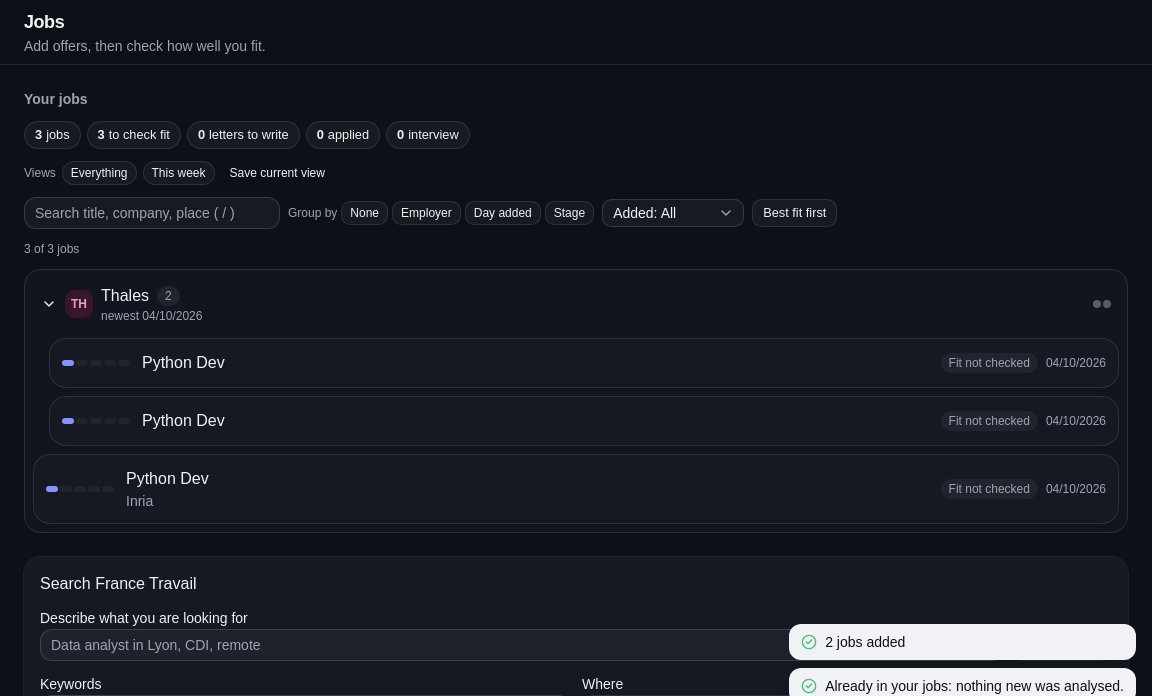
Scenario: jobs of one employer share a header with a count; the Today filter empties the list
Expected: the text "3 of 3 jobs" is shown, [24,242,79,256]
Select "Added: Today" in the dropdown named "Added" at (673, 213), box [602,199,744,227]
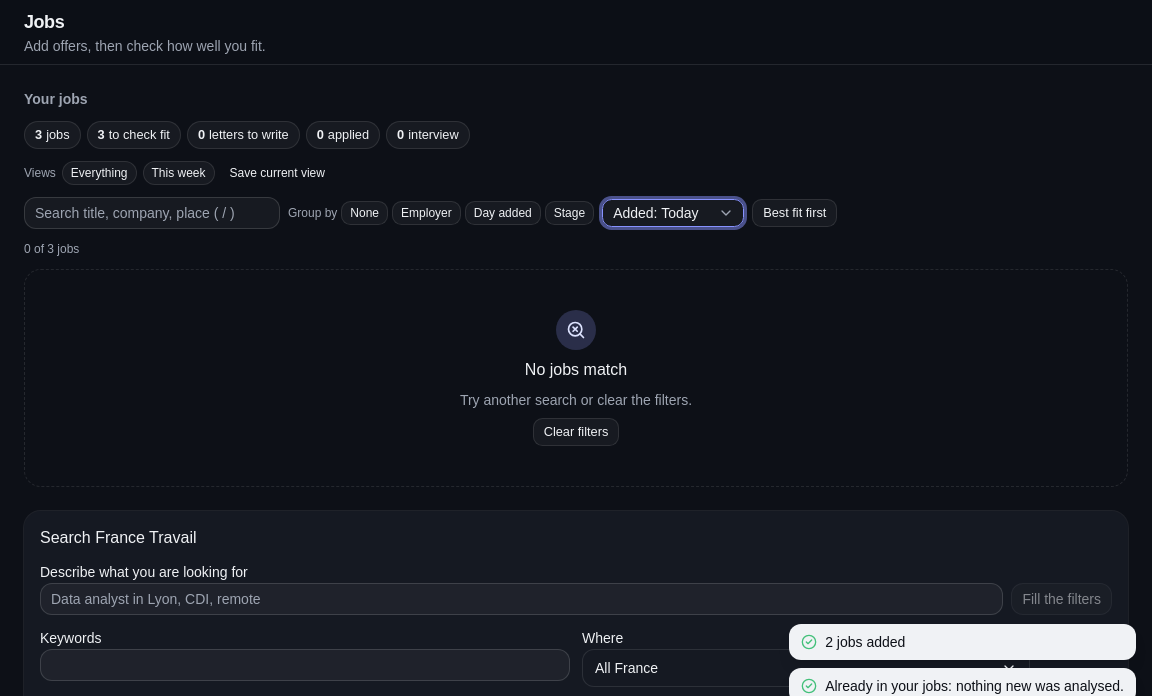
Now the text "No jobs match" is shown, box [525,358,627,382]
Now the text "0 of 3 jobs" is shown, box [24,242,79,256]
Click the button "Clear filters" at (576, 432), box [533,418,619,446]
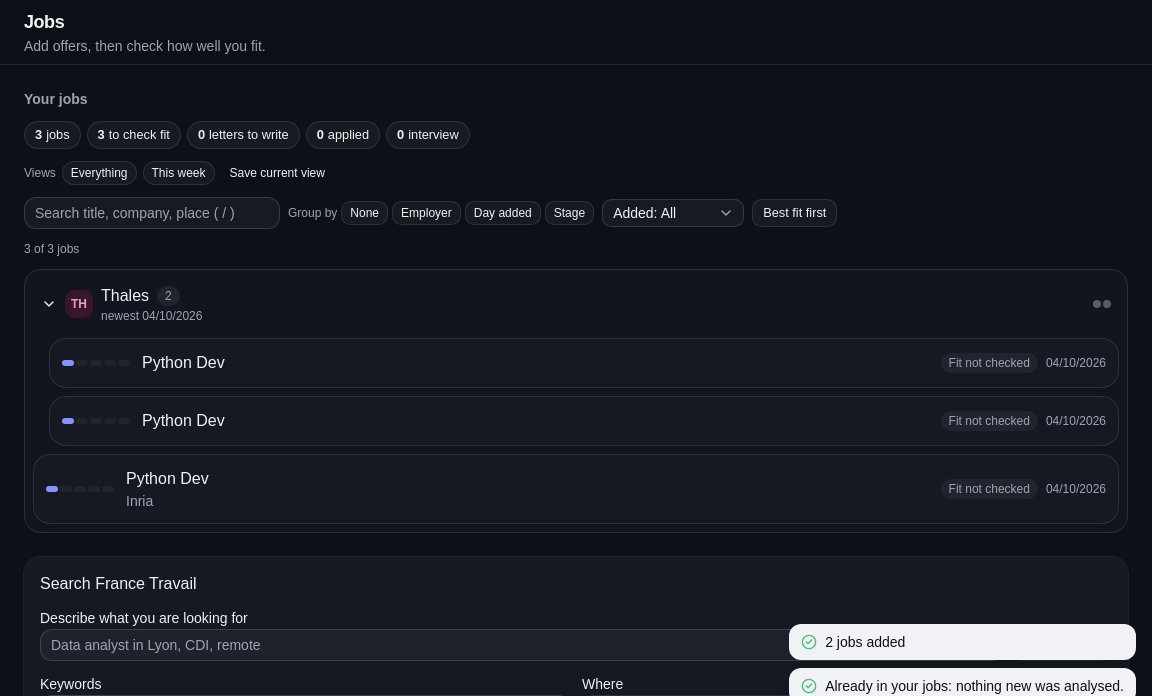
Now the text "3 of 3 jobs" is shown, box [24,242,79,256]
